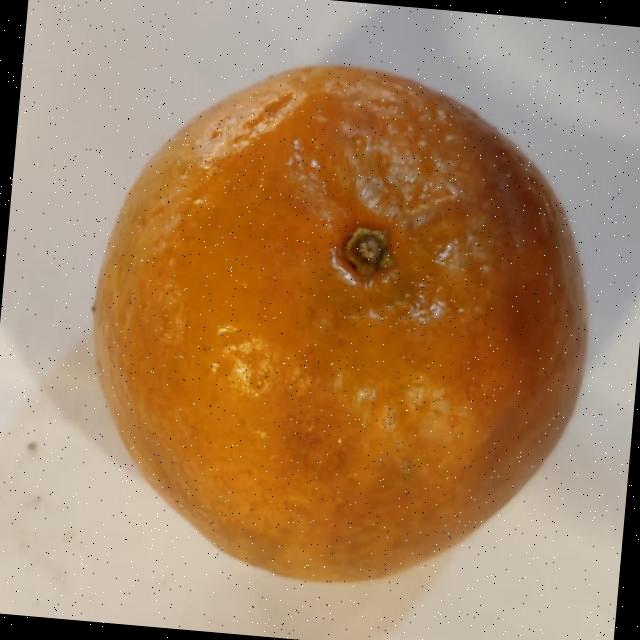Rotten: (66, 47, 609, 606)
